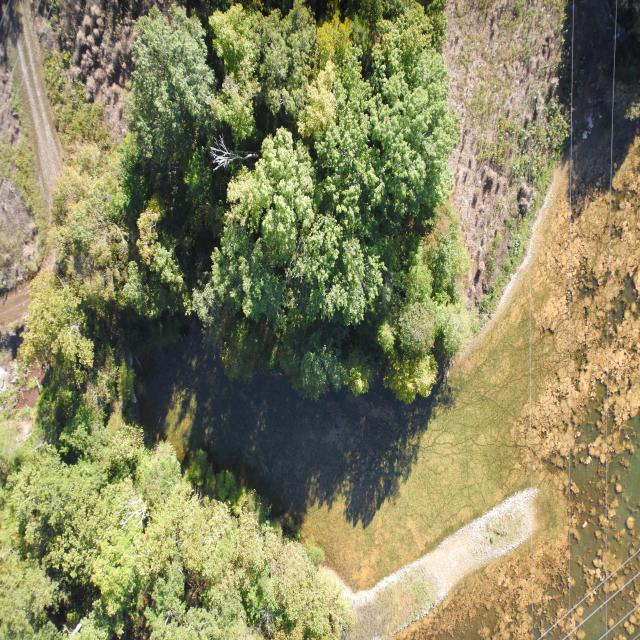Area of Interest: (135, 11, 430, 378), (7, 386, 331, 634)
